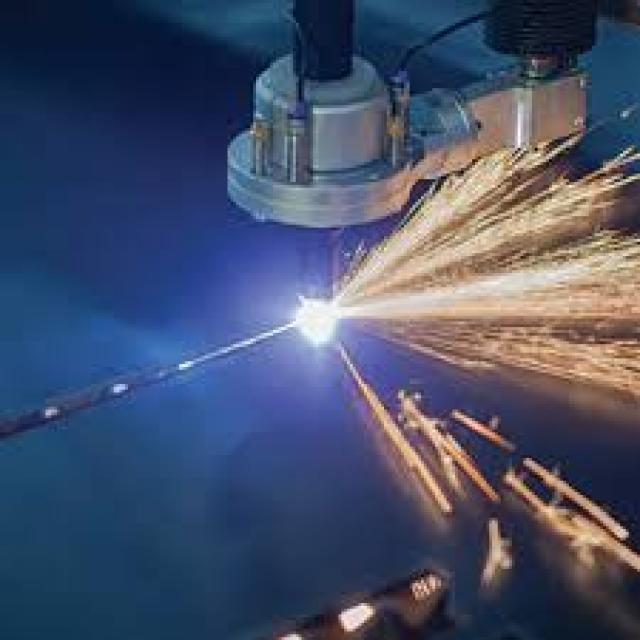welding: (296, 294, 337, 341)
